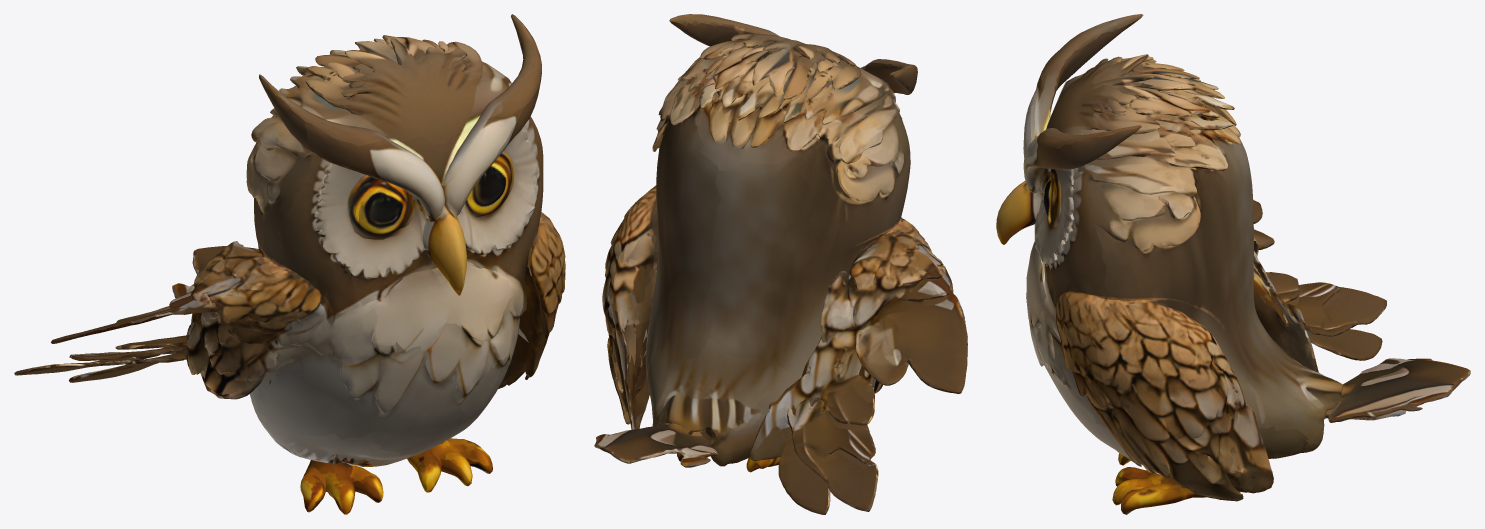
3 renders of one model, left to right at view 1: azimuth 30°, elevation 25°; view 2: azimuth 150°, elevation 25°; view 3: azimuth 270°, elevation 25°, orthographic. The views are drawn at different scales.
Parts seen in each view (by area): view 1: textured; view 2: textured; view 3: textured.
Part boxes in pixels (<box>): textured: <box>14,14,565,514</box>; textured: <box>594,14,967,514</box>; textured: <box>996,14,1470,514</box>.
Size of the model in its own units: 1.93 by 1.87 by 1.98.
1 material, 1 textured.
